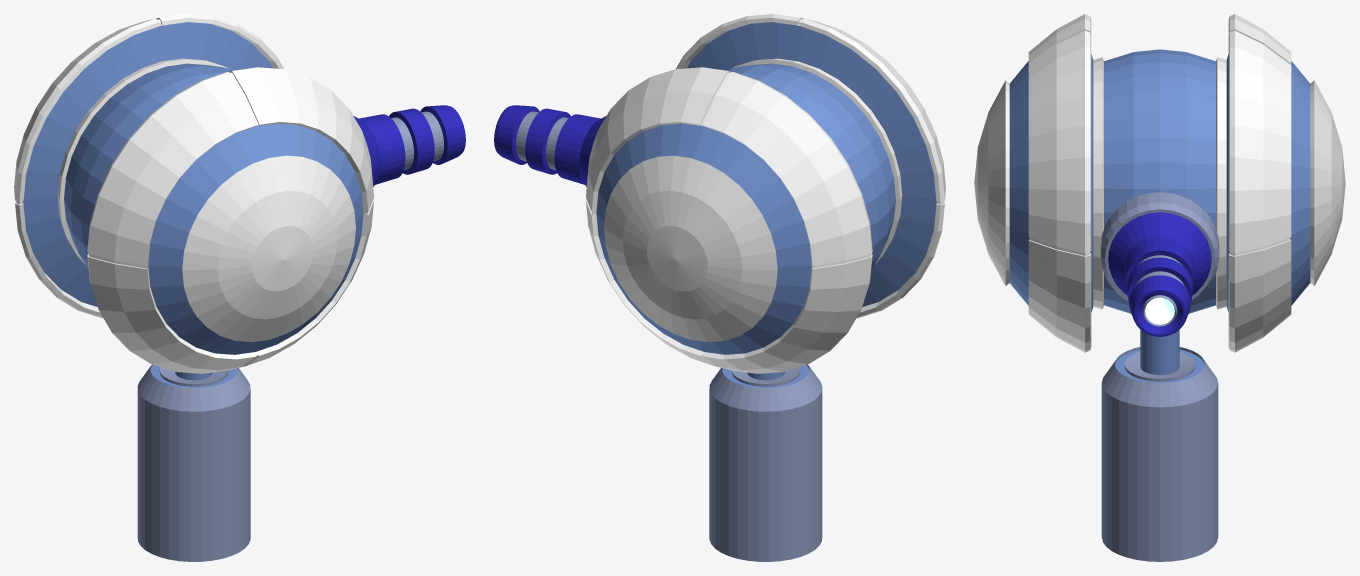
The model's file is Turret_1.fbx.
3 renders of one model, left to right at view 1: azimuth 30°, elevation 25°; view 2: azimuth 150°, elevation 25°; view 3: azimuth 270°, elevation 25°, orthographic. The views are drawn at different scales.
Visible parts, largest first — view 1: Gun-1_Body, Gun-1_Socket, Gun-1_lauf; view 2: Gun-1_Body, Gun-1_Socket, Gun-1_lauf; view 3: Gun-1_Body, Gun-1_Socket, Gun-1_lauf.
Boxes of the visible parts, left/top/right/bottom form: Gun-1_Body: left=14, top=14, right=373, bottom=373; Gun-1_Socket: left=137, top=364, right=250, bottom=561; Gun-1_lauf: left=353, top=105, right=465, bottom=186; Gun-1_Body: left=586, top=14, right=945, bottom=373; Gun-1_Socket: left=709, top=364, right=822, bottom=561; Gun-1_lauf: left=494, top=105, right=606, bottom=186; Gun-1_Body: left=974, top=14, right=1345, bottom=352; Gun-1_Socket: left=1101, top=330, right=1218, bottom=561; Gun-1_lauf: left=1100, top=192, right=1219, bottom=336.
Size of the model in its own units: 294 by 345 by 229.
